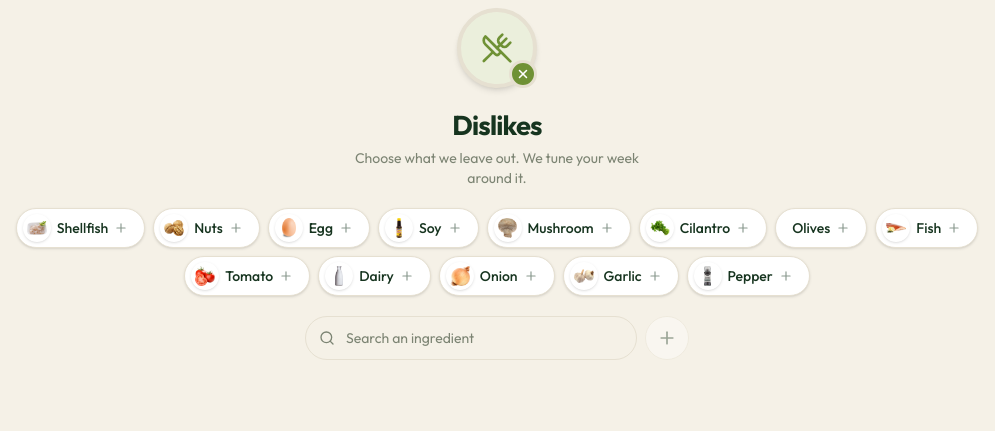
Scenario: DislikesStep › suggests catalogue matches as the user types
Type "brocc" into the dropdown with placeholder "Search an ingredient" at point(471, 338), box [305,316,637,360]
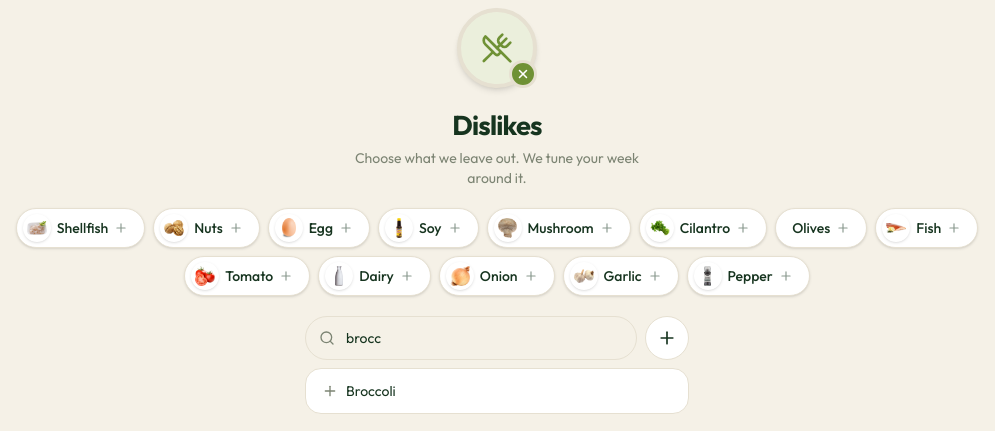
Check: the list is shown, box [305,368,689,414]
Check: the option "Broccoli" is shown, box [306,369,688,413]
